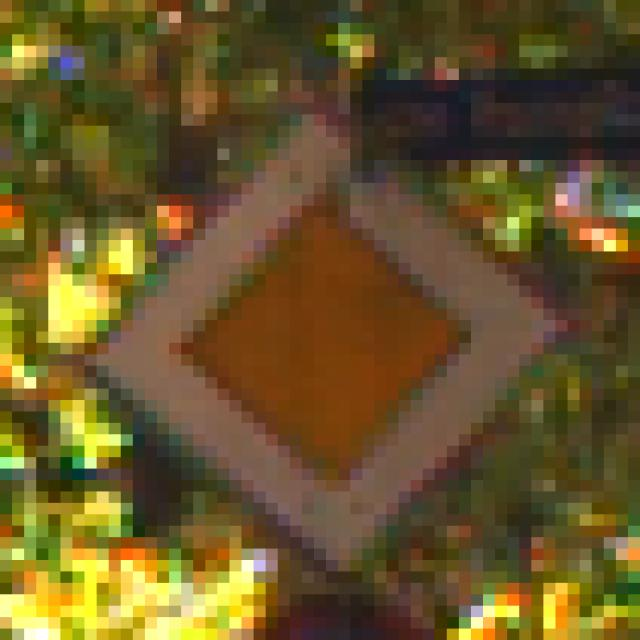Main Road: (74, 58, 581, 584)
